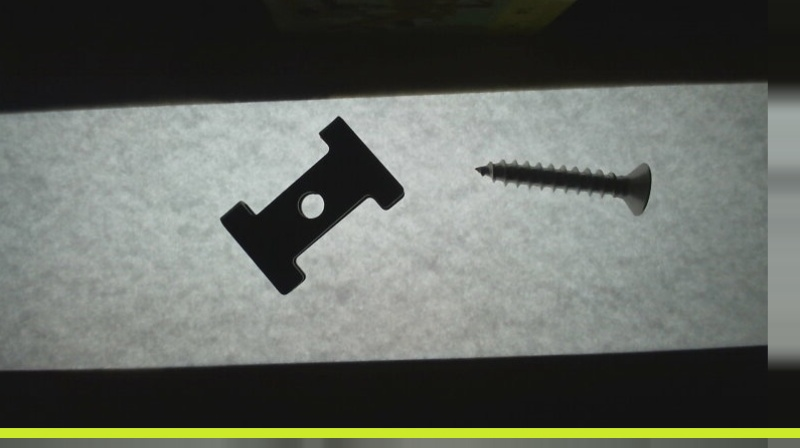O002: (215, 111, 410, 295)
S001: (464, 154, 654, 219)
